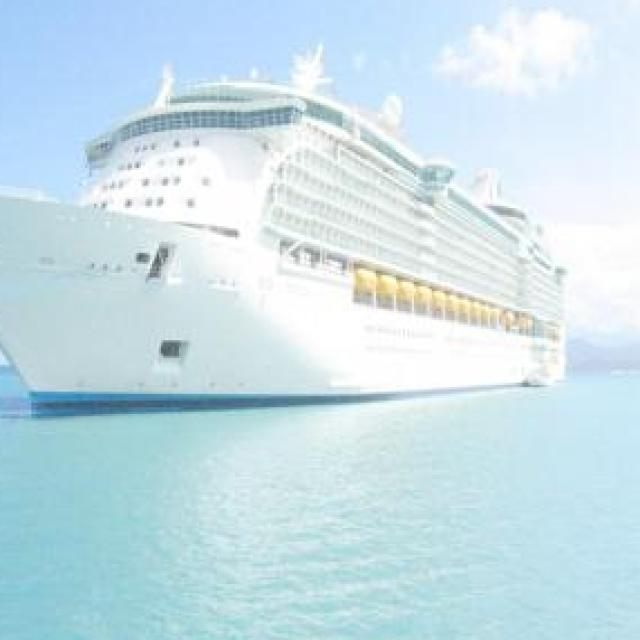passenger ship: (0, 52, 573, 420)
